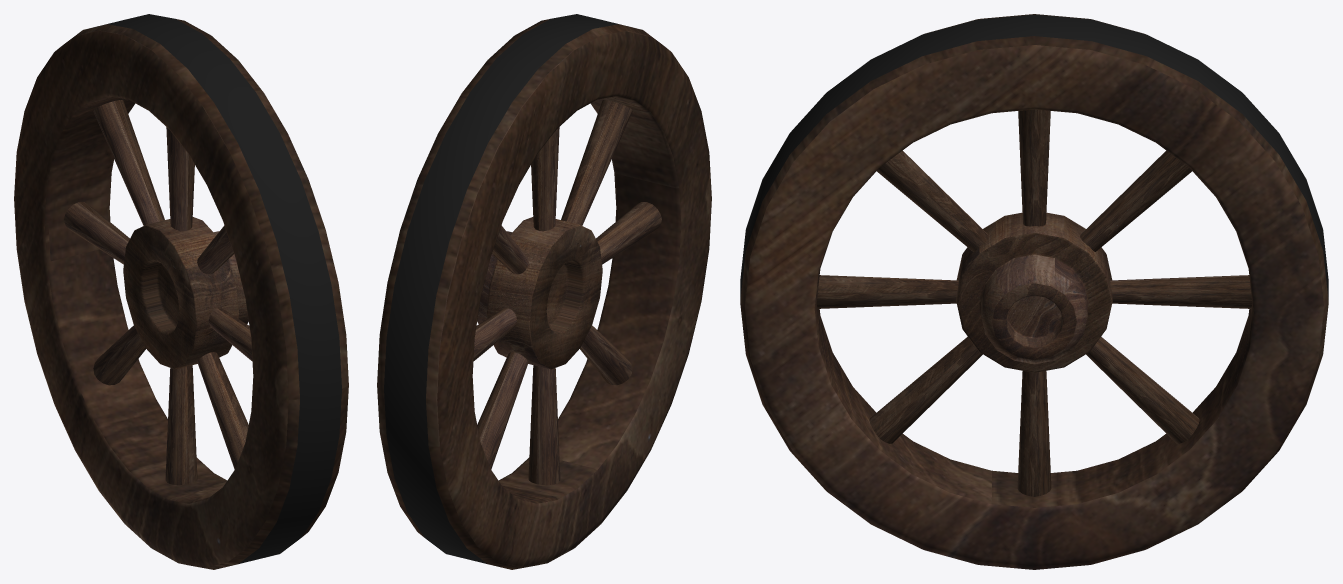
Rendered from cartwheel001.gltf.
The picture shows the model from 3 angles, left to right: view 1: azimuth 30°, elevation 25°; view 2: azimuth 150°, elevation 25°; view 3: azimuth 270°, elevation 25°; orthographic projection. The views are drawn at different scales.
Visible parts, largest first — view 1: ActorWheel; view 2: ActorWheel; view 3: ActorWheel.
Part boxes in pixels (x1=…): ActorWheel: x1=14, y1=14, x2=348, y2=569; ActorWheel: x1=377, y1=14, x2=711, y2=569; ActorWheel: x1=740, y1=14, x2=1328, y2=569.
Size of what is drawn, in the model's own units: 0.3786 by 2 by 2.
2 materials, 1 textured.
